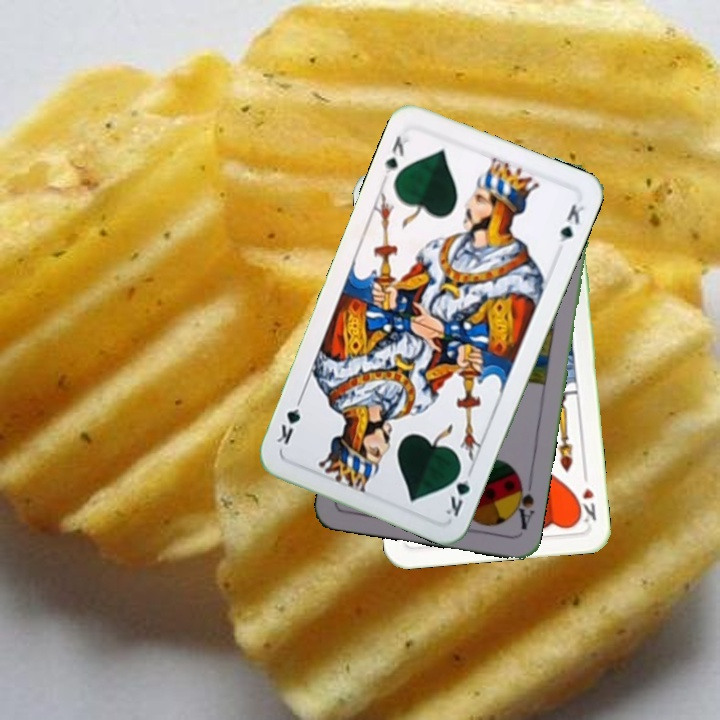GK: (441, 462, 475, 520), (379, 129, 412, 183)
HK: (572, 468, 599, 526)
SA: (508, 473, 537, 533)
